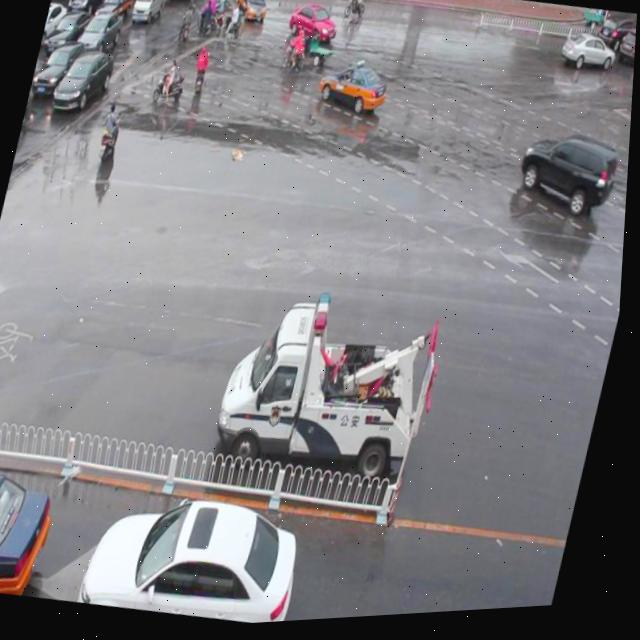bus: (212, 275, 448, 496)
car: (313, 60, 392, 125), (557, 32, 621, 82), (284, 2, 341, 51), (232, 0, 271, 28)
truck: (512, 129, 625, 227)
